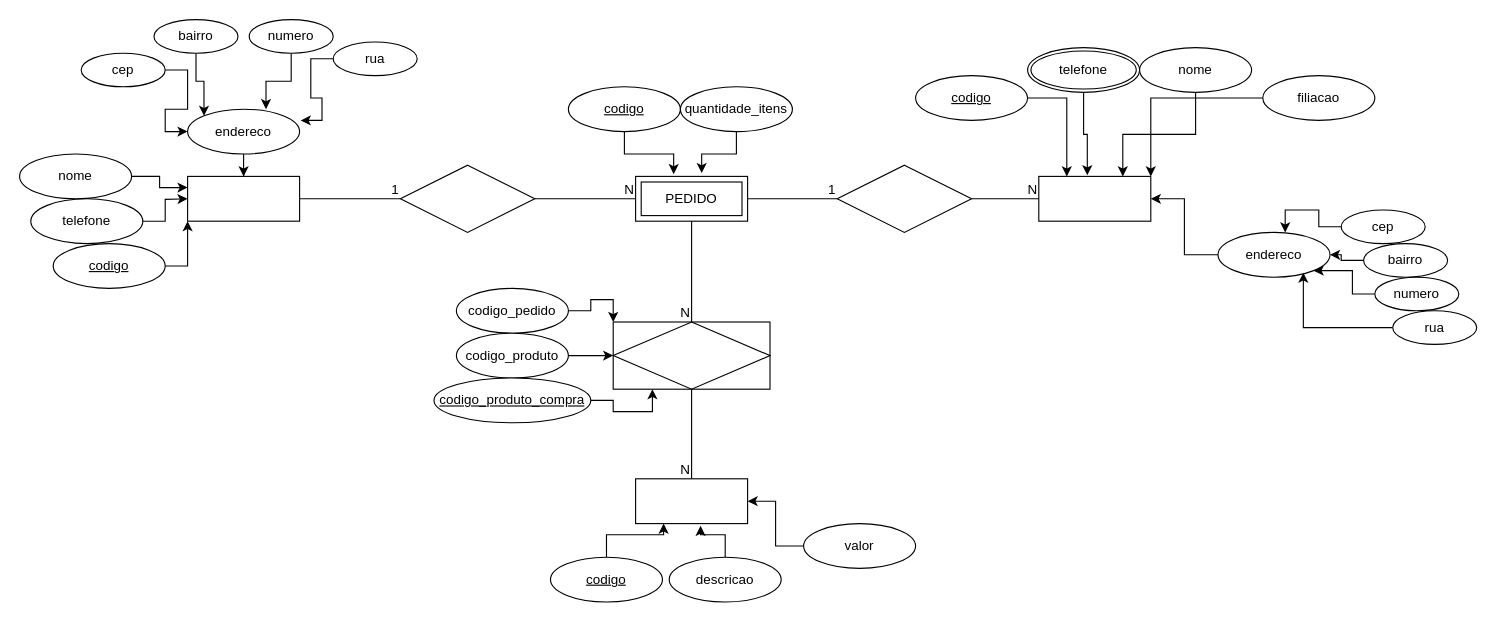
This 1496x622 diagram has some shape labels left out. The shapes that lost their labels are listed below. From the top down, each one's centre as x and y in pixels, then its label:
At point (243, 198): "CLIENTE".
At point (467, 198): "REALIZA".
At point (904, 198): "ENTREGA".
At point (1094, 198): "ENTREGADOR".
At point (691, 355): "CONTEM item_pedido".
At point (691, 501): "PRODUTO".
